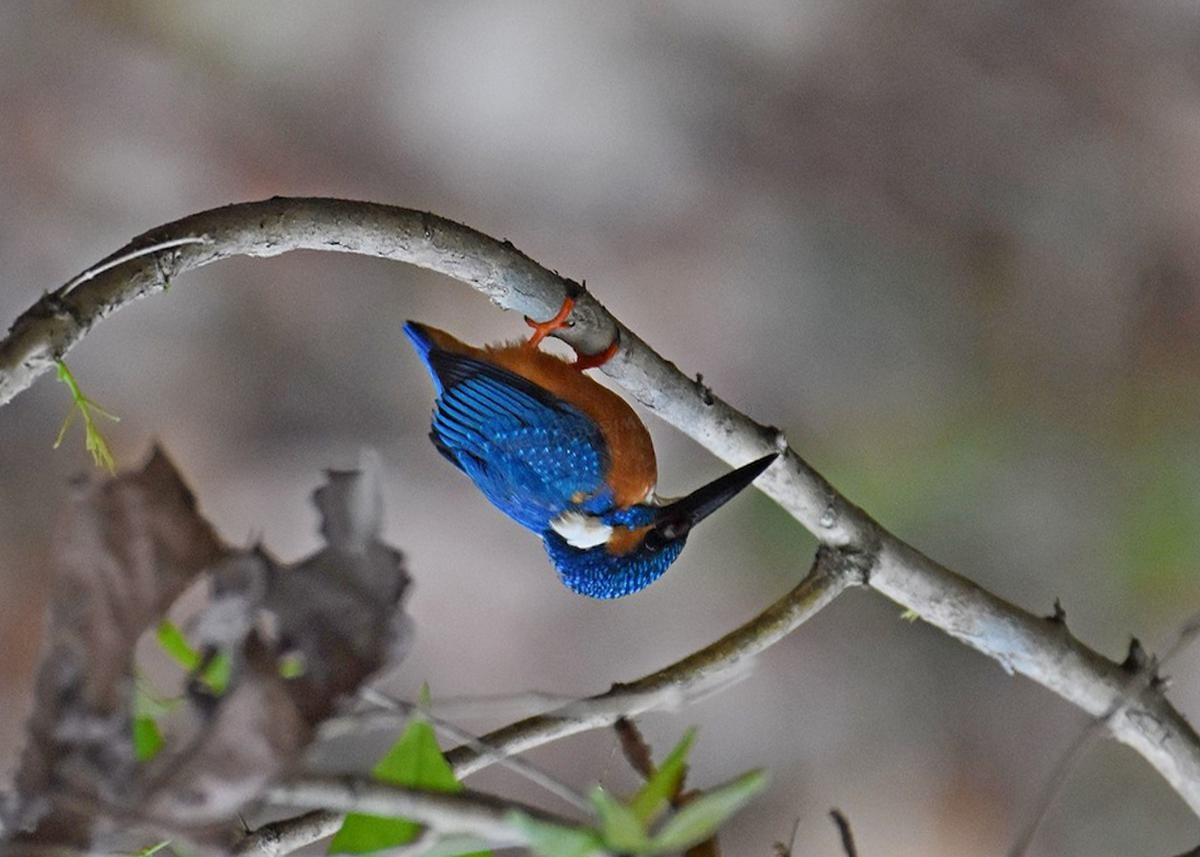kingfisher: (407, 282, 786, 614)
